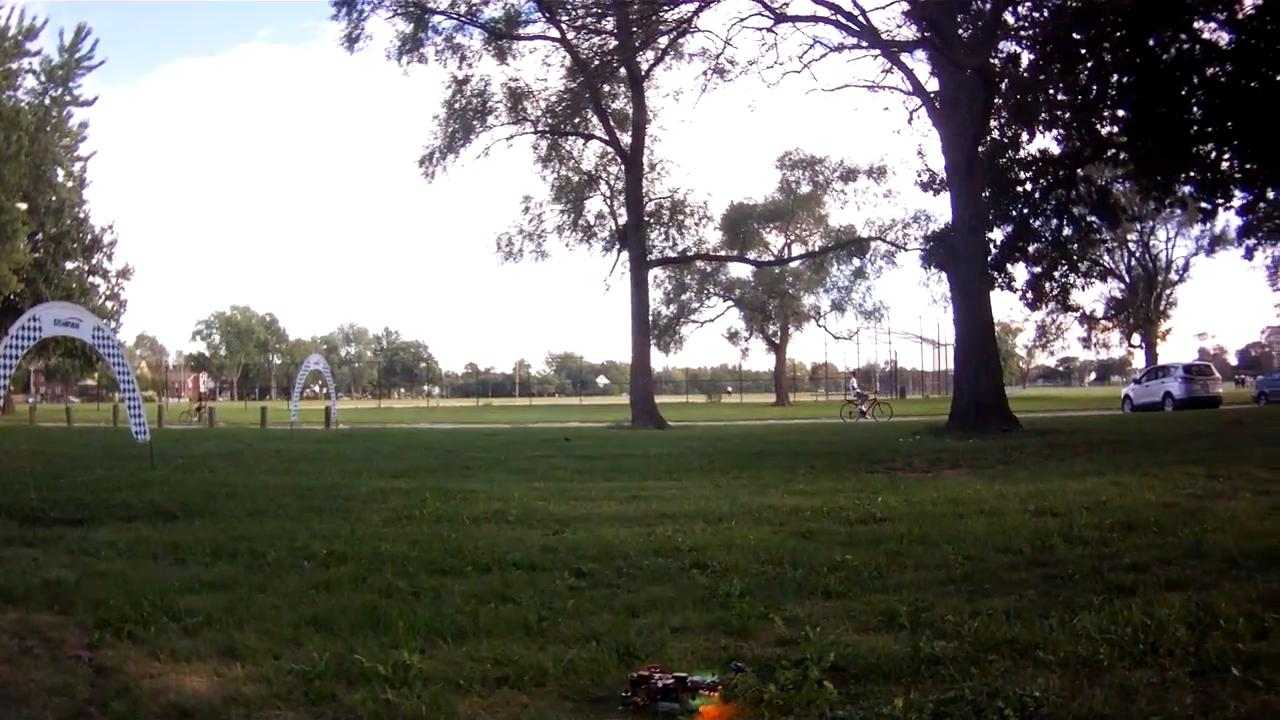gate: (1, 298, 153, 451)
